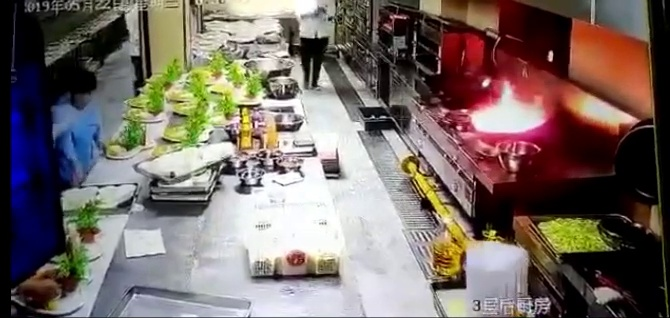fire: (482, 80, 549, 135)
